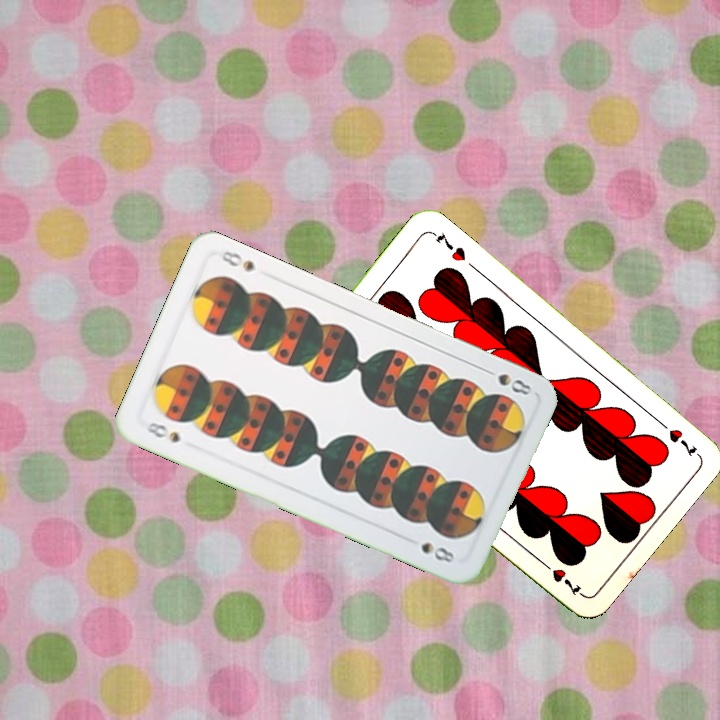H7: (652, 414, 701, 460)
S8: (479, 364, 536, 398), (141, 418, 183, 446)
